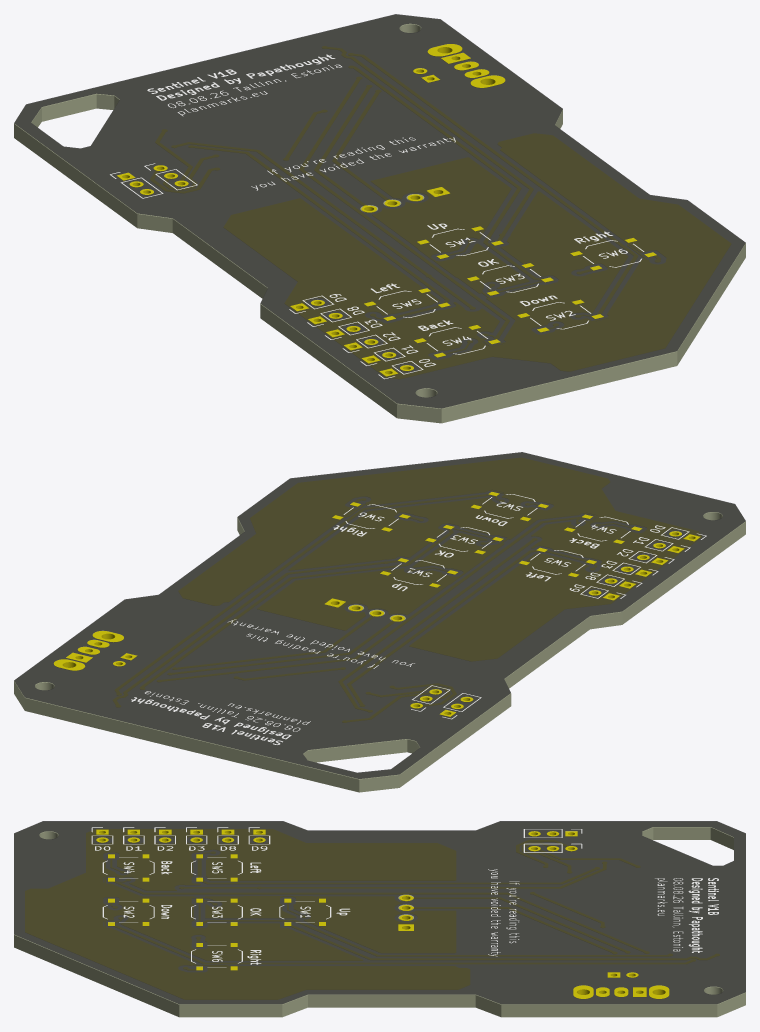
The model's file is ESP32C5 Cold Wallet.glb.
3 views of the same model, one above another, from view 1: azimuth 30°, elevation 25°; view 2: azimuth 150°, elevation 25°; view 3: azimuth 270°, elevation 25° (orthographic). The views are drawn at different scales.
Visible parts, largest first — view 1: =>[0:1:1:5], =>[0:1:1:7], =>[0:1:1:2], =>[0:1:1:3]; view 2: =>[0:1:1:5], =>[0:1:1:7], =>[0:1:1:2], =>[0:1:1:3]; view 3: =>[0:1:1:5], =>[0:1:1:7], =>[0:1:1:2], =>[0:1:1:3].
Part boxes in pixels (left/top/right/bottom): =>[0:1:1:5]: left=14, top=14, right=745, bottom=408; =>[0:1:1:7]: left=14, top=15, right=745, bottom=423; =>[0:1:1:2]: left=117, top=44, right=730, bottom=378; =>[0:1:1:3]: left=110, top=54, right=644, bottom=379; =>[0:1:1:5]: left=14, top=452, right=745, bottom=778; =>[0:1:1:7]: left=14, top=453, right=745, bottom=792; =>[0:1:1:2]: left=53, top=458, right=701, bottom=722; =>[0:1:1:3]: left=131, top=494, right=706, bottom=744; =>[0:1:1:5]: left=14, top=821, right=745, bottom=1004; =>[0:1:1:7]: left=14, top=822, right=745, bottom=1017; =>[0:1:1:2]: left=25, top=829, right=719, bottom=999; =>[0:1:1:3]: left=91, top=827, right=718, bottom=967.
Size of the model in its own units: 0.047 by 0.00166 by 0.0793.
